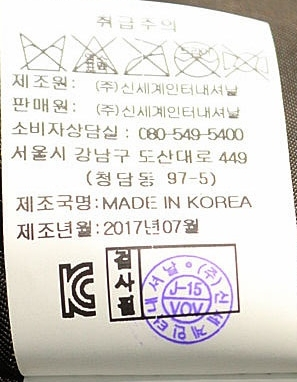KR_no_chlorine_bleach: (70, 30, 121, 78)
KR_no_dry_clean: (173, 34, 219, 83)
KR_no_iron: (120, 34, 174, 81)
KR_no_wash: (17, 28, 70, 74)
KR_no_wring: (219, 40, 272, 82)
